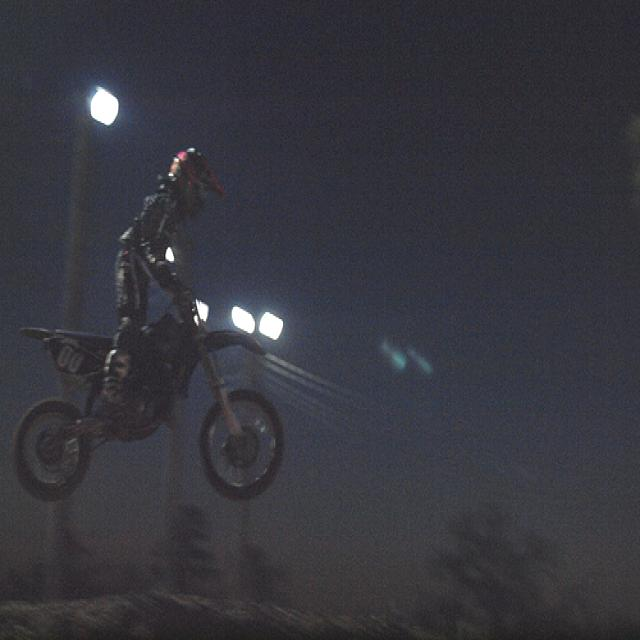Motorbike: (17, 239, 285, 498)
